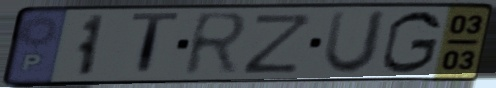1: (77, 12, 109, 80)
G: (378, 8, 445, 76)
R: (180, 9, 253, 80)
T: (128, 10, 183, 80)
U: (318, 8, 392, 77)
Z: (240, 12, 318, 76)
